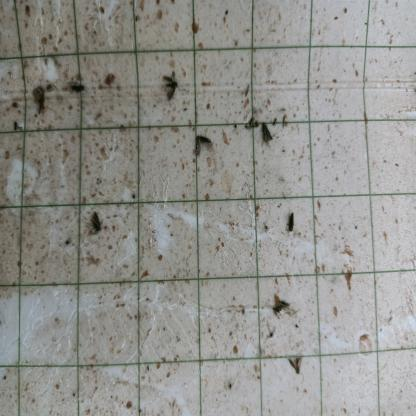prays_oleae: (85, 203, 114, 240), (259, 117, 277, 151), (162, 74, 184, 100), (64, 80, 89, 100), (270, 294, 288, 318), (290, 350, 304, 378), (193, 128, 214, 144), (287, 210, 296, 233), (193, 139, 199, 161)
